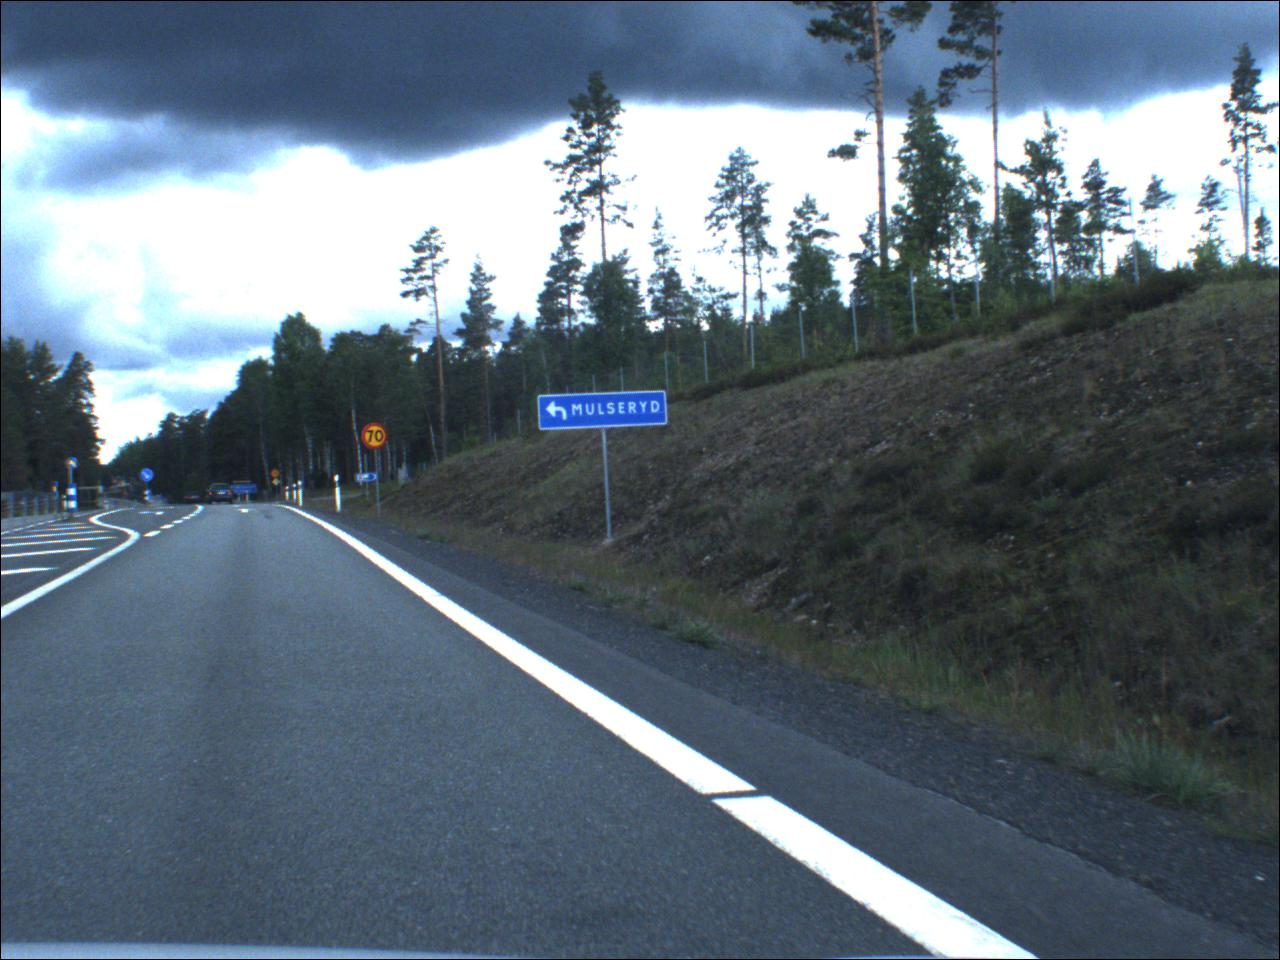70_SIGN: (364, 424, 390, 453), (271, 469, 283, 481)
PASS_RIGHT_SIDE: (141, 469, 159, 486)
PRIORITY_ROAD: (274, 480, 284, 490)
